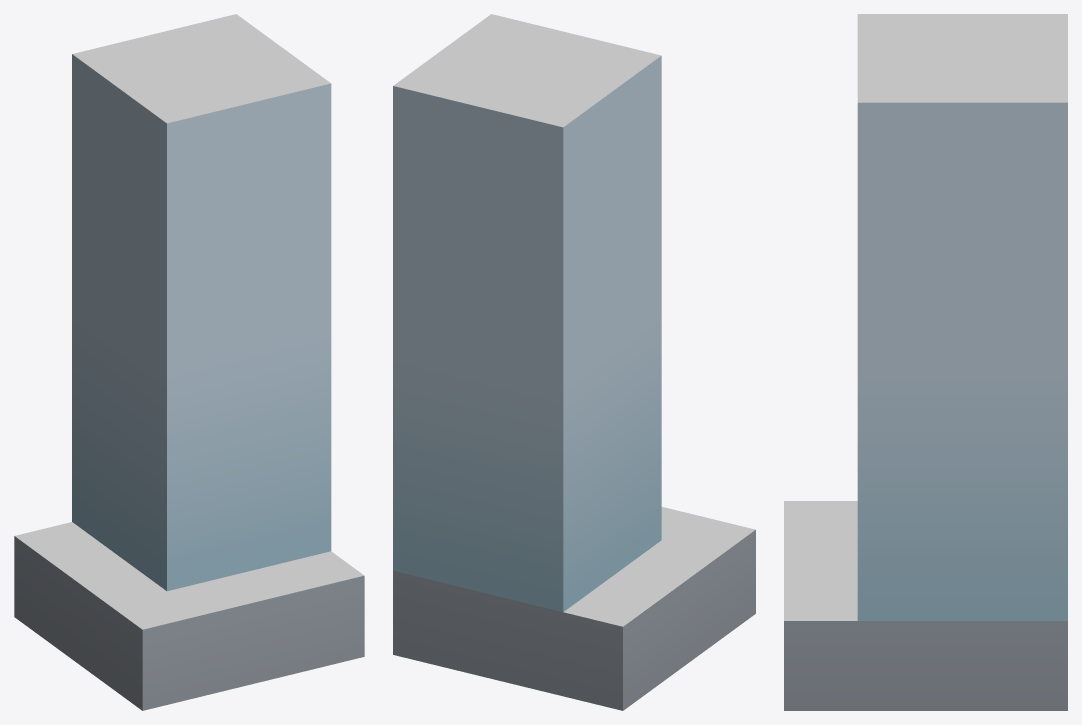
File: collumn1_corner.fbx
3 views of the same model, side by side, from view 1: azimuth 30°, elevation 25°; view 2: azimuth 150°, elevation 25°; view 3: azimuth 270°, elevation 25° (orthographic). The views are drawn at different scales.
Visible parts, largest first — view 1: collumn1_corner; view 2: collumn1_corner; view 3: collumn1_corner.
Boxes of the visible parts, bbox=[...] form: collumn1_corner: bbox=[14, 14, 364, 710]; collumn1_corner: bbox=[393, 14, 755, 710]; collumn1_corner: bbox=[784, 14, 1067, 710].
Size of the model in its own units: 1.69 by 4 by 1.69.
